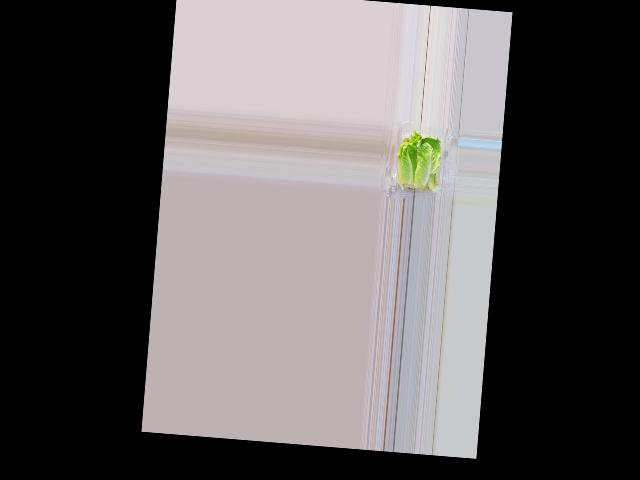lettuce: (395, 129, 442, 189)
